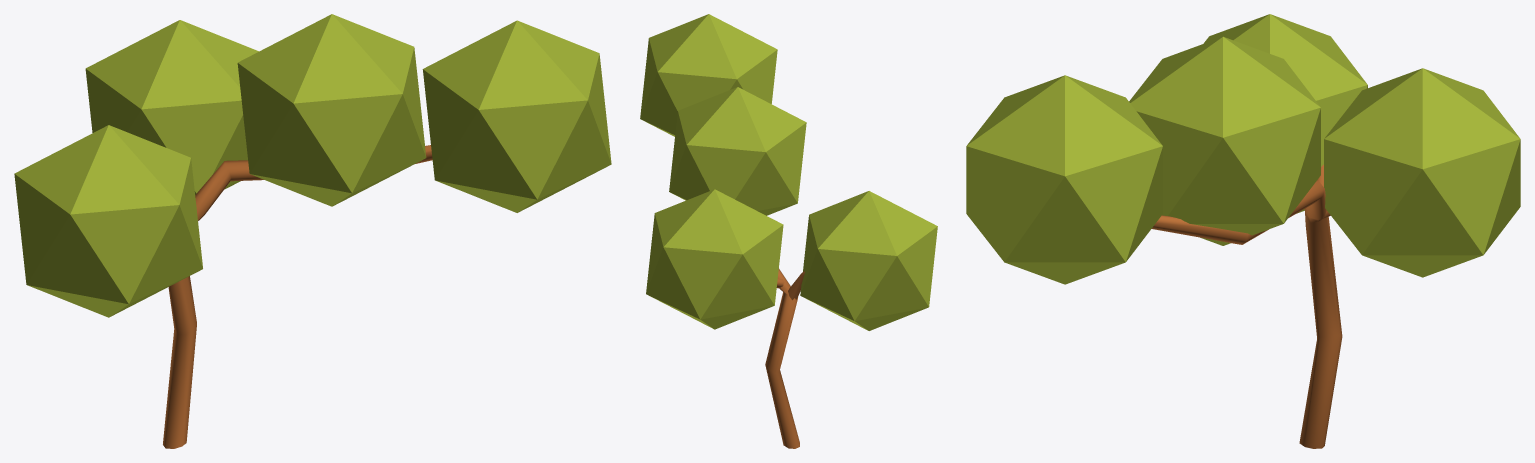
File: Old-tree-compressed.glb
3 views of the same model, side by side, from view 1: azimuth 30°, elevation 25°; view 2: azimuth 150°, elevation 25°; view 3: azimuth 270°, elevation 25° (orthographic). The views are drawn at different scales.
Visible parts, largest first — view 1: treeLeaves.012, treeLeaves.014, treeLeaves.013, treeLeaves.015, treeBody.015; view 2: treeLeaves.015, treeLeaves.014, treeLeaves.013, treeLeaves.012, treeBody.015; view 3: treeLeaves.012, treeLeaves.015, treeLeaves.013, treeBody.015, treeLeaves.014.
Part boxes in pixels (x1,y1,x2,y2): treeLeaves.012: (422,20,611,212); treeLeaves.014: (14,125,202,317); treeLeaves.013: (237,14,426,206); treeLeaves.015: (85,20,258,194); treeBody.015: (163,145,432,448); treeLeaves.015: (646,189,783,329); treeLeaves.014: (800,191,937,330); treeLeaves.013: (669,87,806,215); treeLeaves.012: (640,14,777,136); treeBody.015: (765,269,804,448); treeLeaves.012: (966,75,1162,284); treeLeaves.015: (1324,68,1520,277); treeLeaves.013: (1129,36,1320,245); treeBody.015: (1151,164,1342,448); treeLeaves.014: (1203,14,1367,213).
Bounding box in the file's own units: 4.3 × 3.88 × 3.97.
5 materials, 5 textured.
